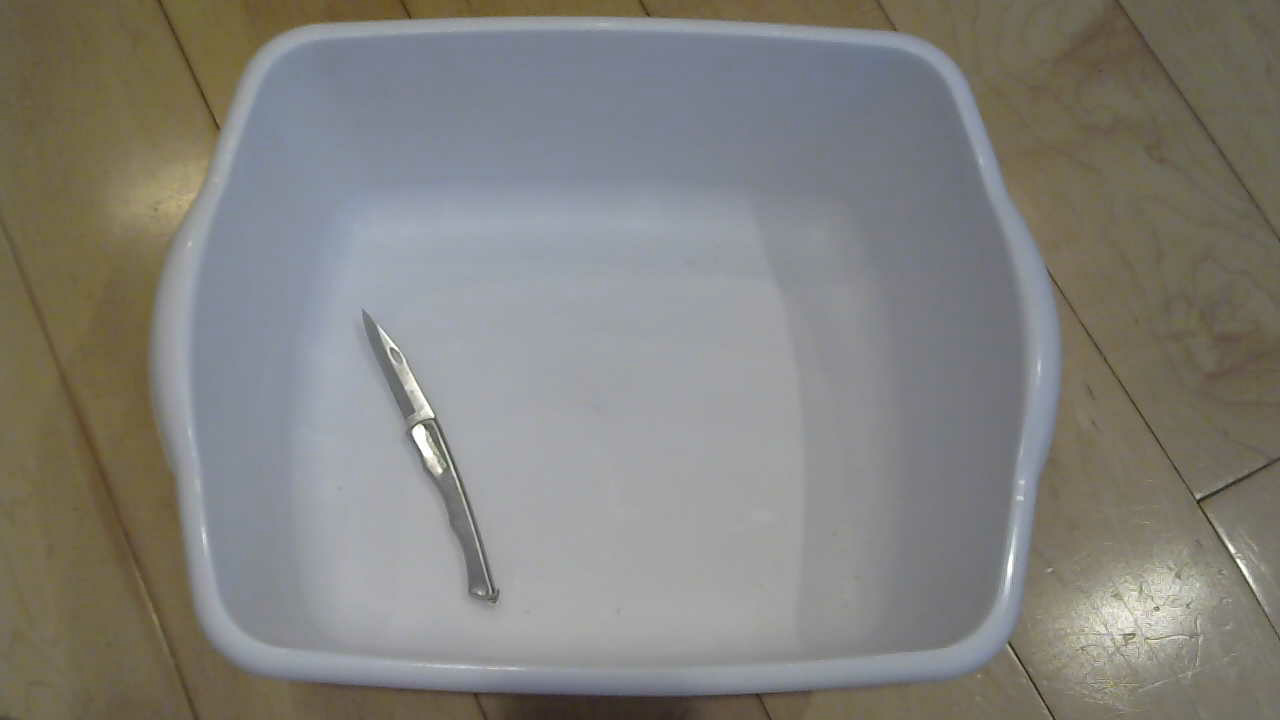knife: (314, 315, 528, 614)
